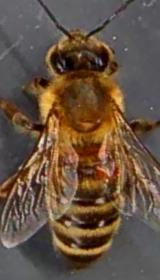varroa_mite: (86, 158, 116, 180)
